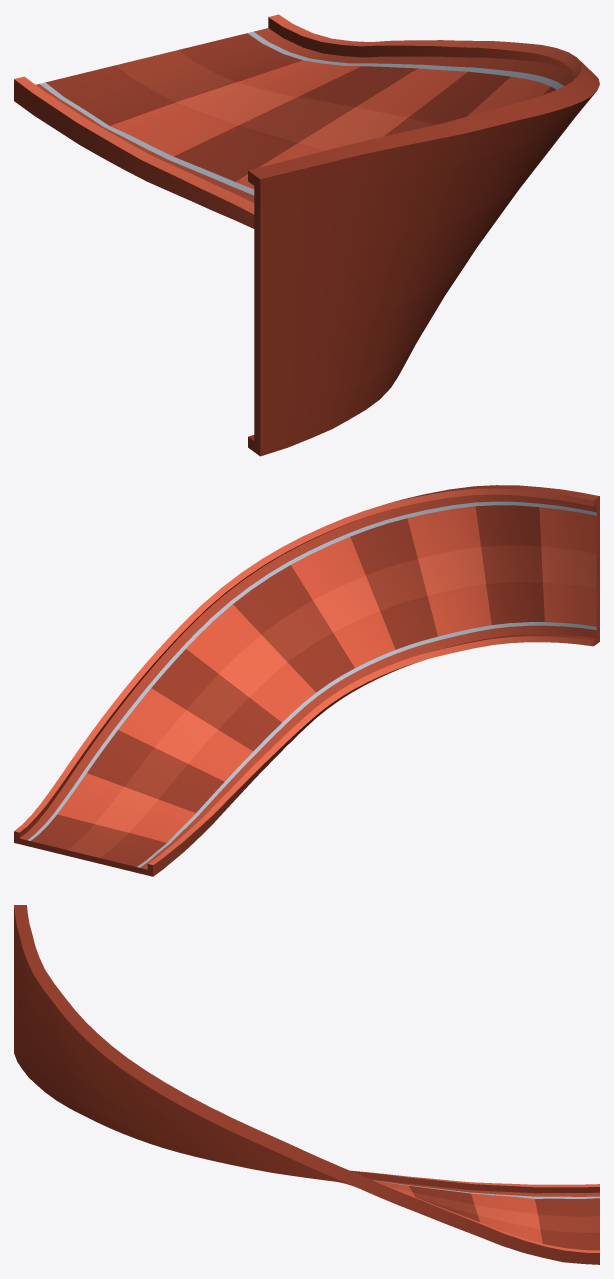
Rendered from Yellow-3Race-SuperlongTurnStand.FBX.
3 renders of one model, top to bottom at view 1: azimuth 30°, elevation 25°; view 2: azimuth 150°, elevation 25°; view 3: azimuth 270°, elevation 25°, orthographic. The views are drawn at different scales.
Visible parts, largest first — view 1: Yellow-3Race-SuperlongTurnStand; view 2: Yellow-3Race-SuperlongTurnStand; view 3: Yellow-3Race-SuperlongTurnStand.
Boxes of the visible parts, x1,y1,x2,y2 form: Yellow-3Race-SuperlongTurnStand: (14,14,599,456); Yellow-3Race-SuperlongTurnStand: (14,485,599,876); Yellow-3Race-SuperlongTurnStand: (14,905,599,1264).
Bounding box in the file's own units: 2722 × 1806 × 4519.
